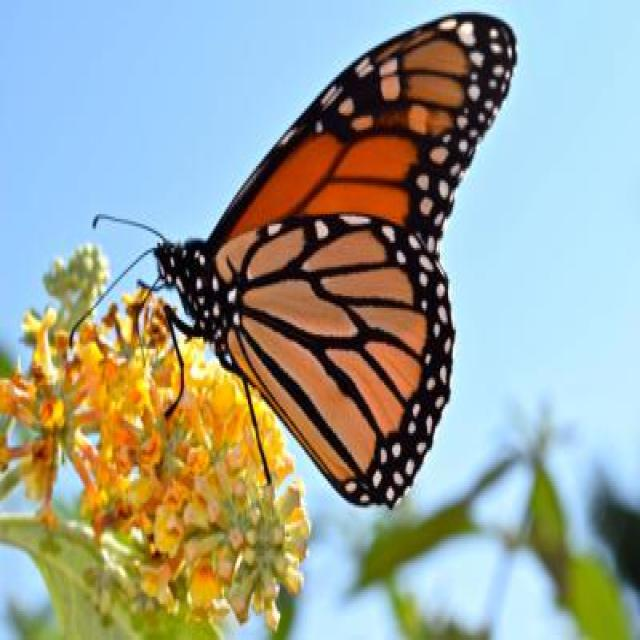antennae: (68, 200, 162, 350)
body: (148, 233, 245, 372)
insect: (67, 11, 520, 511)
legs: (159, 302, 277, 500)
wings: (206, 12, 517, 508)
